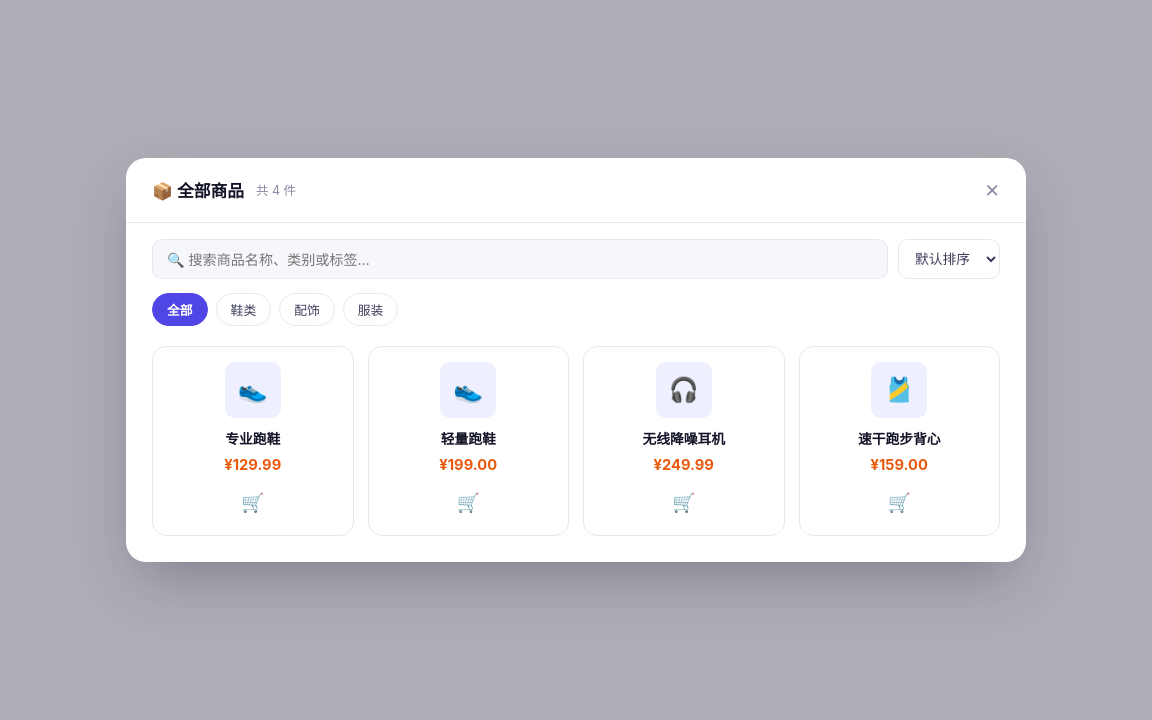
it: 商品详情（R11-9 / R11-4） › 点名称打开详情并展示名称 / 价格 / 类别 / 图标 / 标签，不渲染简介段落
Click the button "专业跑鞋". click: (253, 438)
box: [168,428,338,448]
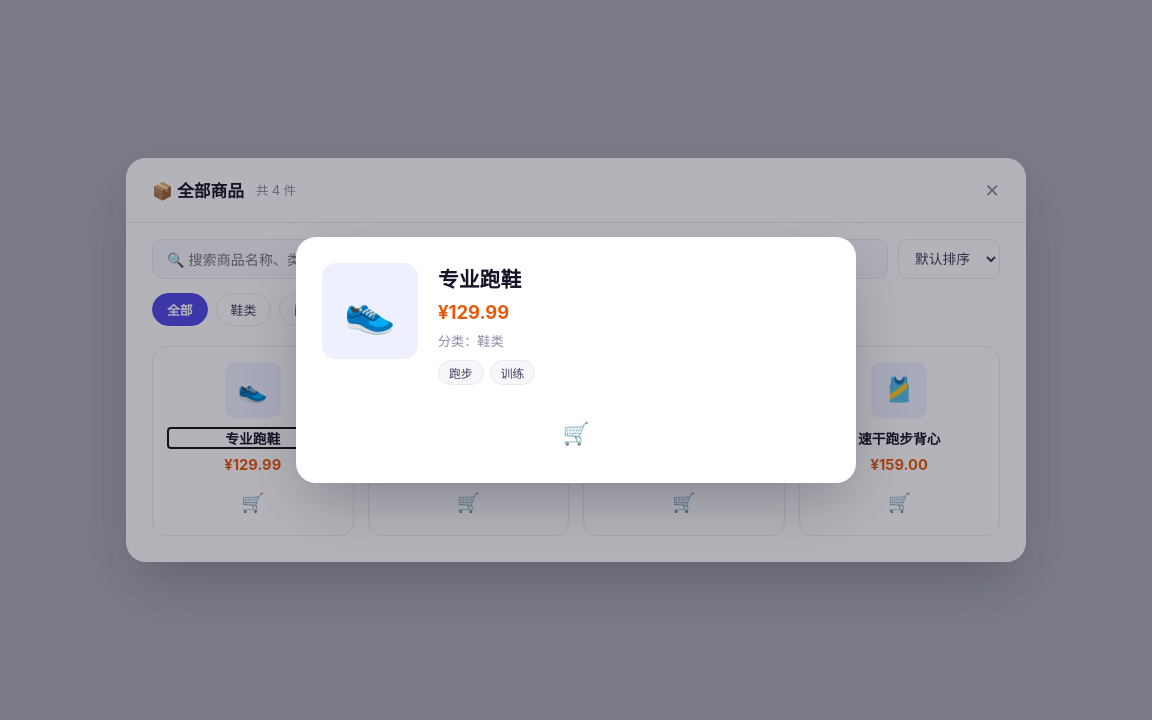
Now the element with class "dbox" is shown, box [296,237,856,483]
Now the heading "专业跑鞋" is shown, box [438,267,521,292]
Now the text "¥129.99" is shown, box [438,301,509,323]
详情里的加购入口与商品卡同一条路径，点击后详情关闭（对齐原型 v3）。
Click the button titled "加入购物车". click: (576, 434)
box: [322,411,830,457]
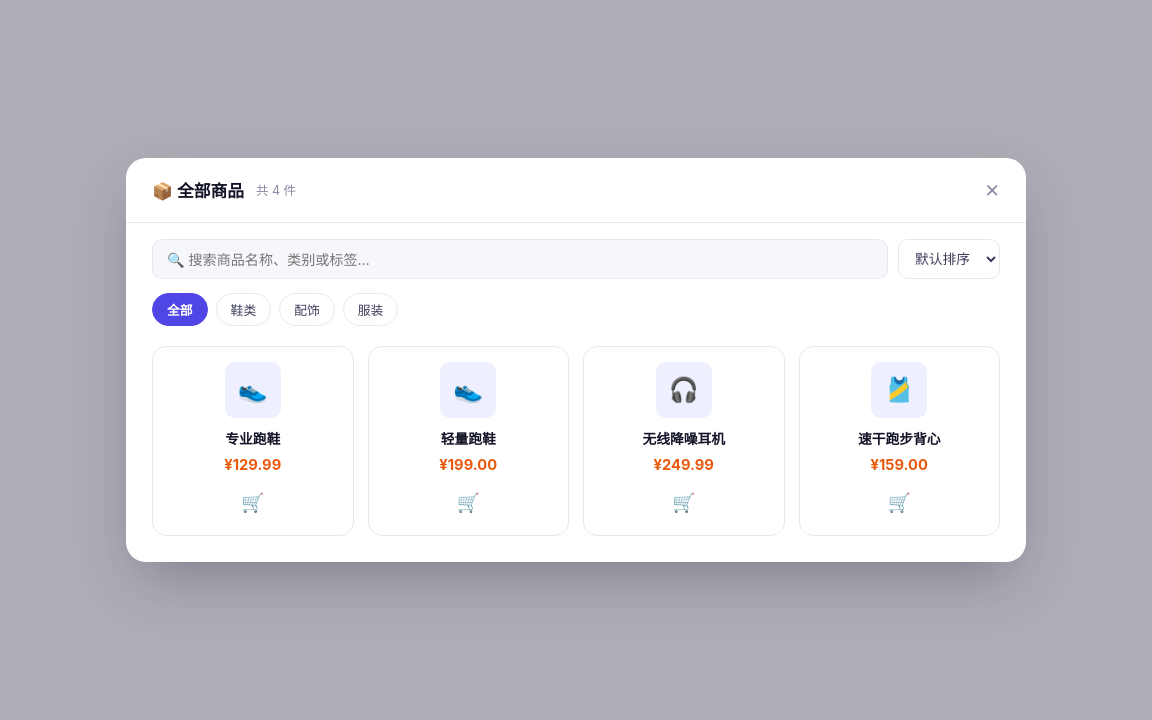
Now the element with class "dbox" is gone
